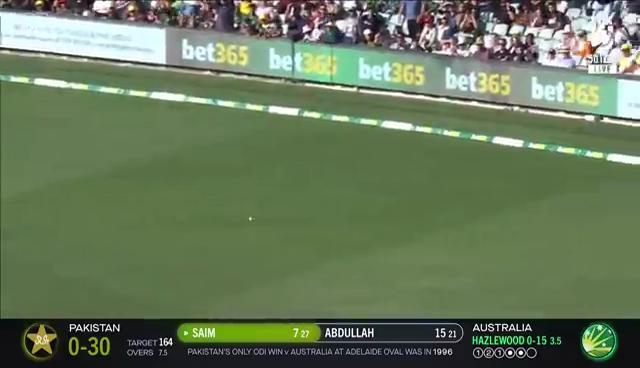ball: (243, 210, 260, 230)
